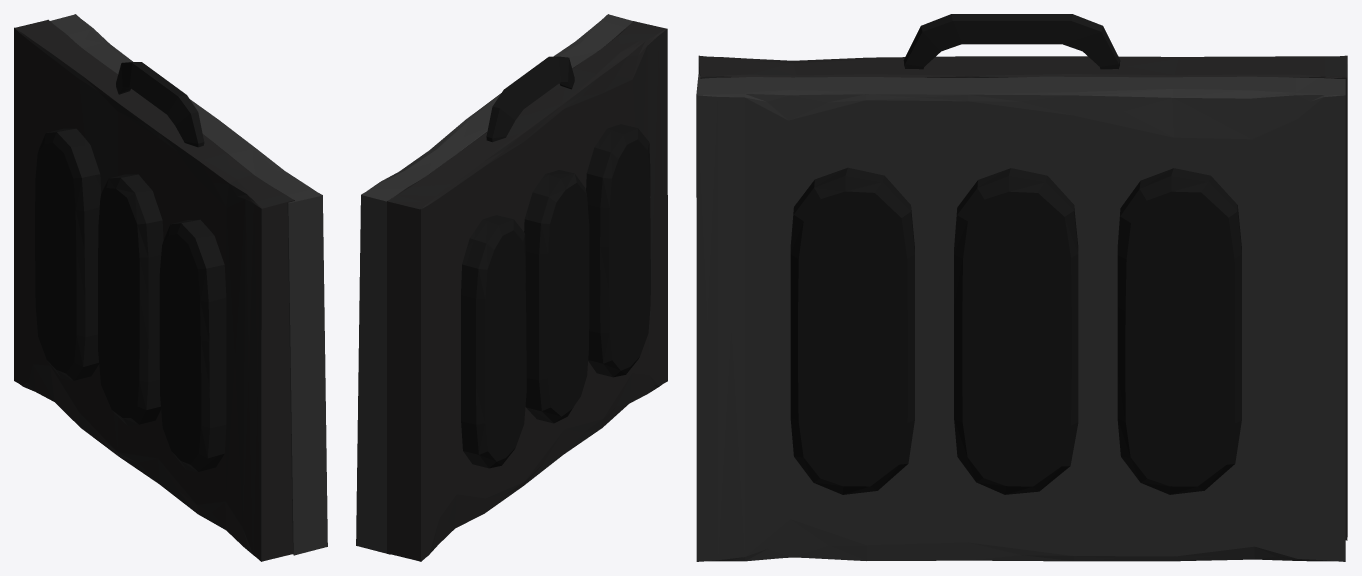
The model's file is valigiaMissili.obj.
3 renders of one model, left to right at view 1: azimuth 30°, elevation 25°; view 2: azimuth 150°, elevation 25°; view 3: azimuth 270°, elevation 25°, orthographic. The views are drawn at different scales.
Parts seen in each view (by area): view 1: Group3241, Group3256, Group3331, Group3301, Group3316, Group3226; view 2: Group3241, Group3301, Group3316, Group3256, Group3331, Group3226; view 3: Group3256, Group3331, Group3316, Group3301, Group3241, Group3226.
Boxes of the visible parts, x1,y1,x2,y2 form: Group3241: (14,19,294,561); Group3256: (50,14,327,555); Group3331: (159,219,226,471); Group3301: (35,128,101,380); Group3316: (98,174,163,425); Group3226: (116,62,204,147); Group3241: (387,21,667,561); Group3301: (461,215,526,468); Group3316: (524,170,589,423); Group3256: (356,14,632,554); Group3331: (586,124,650,377); Group3226: (486,56,574,142); Group3256: (696,74,1345,561); Group3331: (790,167,914,494); Group3316: (954,168,1078,494); Group3301: (1117,168,1241,494); Group3241: (698,55,1347,540); Group3226: (903,14,1120,69).
Size of the model in its own units: 0.7123 by 2.72 by 3.06.
Materials: 1 (1 with a texture image).
